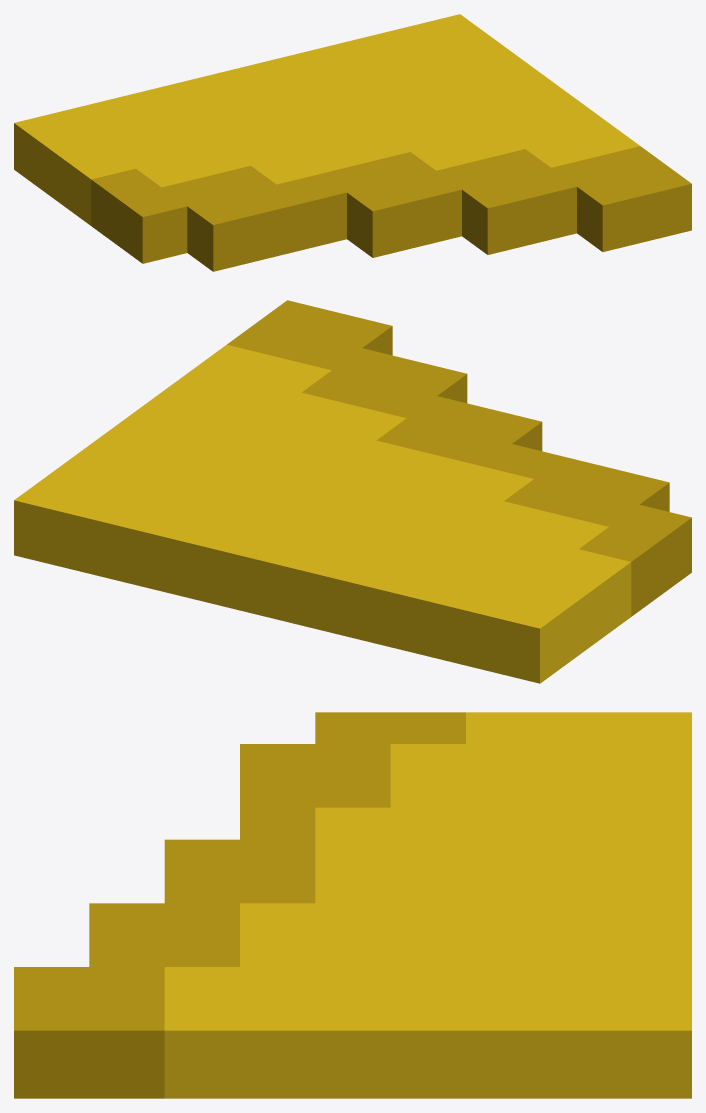
Rendered from path_yellow_diagonal_A_down.obj.
3 renders of one model, top to bottom at view 1: azimuth 30°, elevation 25°; view 2: azimuth 150°, elevation 25°; view 3: azimuth 270°, elevation 25°, orthographic. The views are drawn at different scales.
Size of the model in its own units: 1 by 0.1 by 0.9.
Materials: 1 (1 with a texture image).
